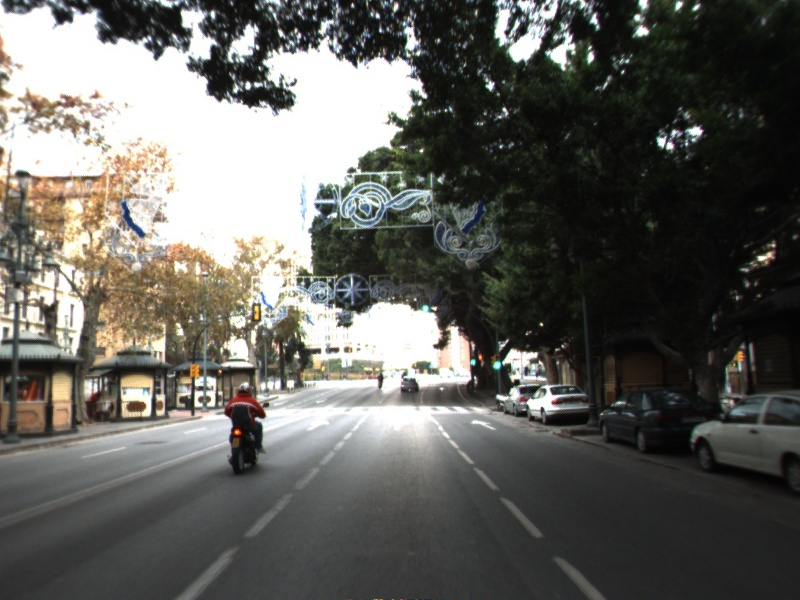STRAIGHT: (469, 417, 499, 432)
